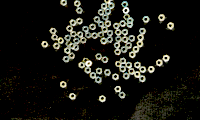nut: (168, 22, 175, 30), (163, 55, 170, 63), (158, 14, 166, 21), (129, 51, 136, 59), (139, 75, 146, 83), (123, 72, 130, 80), (115, 61, 123, 68), (122, 36, 129, 44), (101, 37, 108, 45), (85, 31, 92, 39), (95, 76, 102, 84), (85, 60, 93, 67), (60, 81, 67, 89), (64, 47, 71, 55), (51, 34, 59, 41), (41, 41, 49, 48), (143, 16, 150, 23), (148, 66, 155, 73), (138, 34, 145, 41), (133, 46, 140, 53), (140, 67, 147, 74), (134, 71, 141, 78), (129, 68, 136, 75), (126, 62, 133, 69), (120, 66, 127, 73), (120, 58, 127, 65), (122, 1, 129, 8), (123, 7, 130, 14), (127, 17, 134, 24), (127, 21, 134, 28), (129, 35, 136, 42), (126, 42, 133, 49), (121, 46, 128, 53), (122, 29, 129, 36), (120, 20, 127, 27), (113, 23, 120, 30), (115, 29, 122, 36), (114, 42, 121, 49), (115, 49, 122, 56), (115, 86, 122, 93), (119, 92, 126, 99), (108, 2, 115, 9), (105, 8, 112, 15), (101, 3, 108, 10), (98, 9, 105, 16), (105, 20, 112, 27), (98, 21, 105, 28), (94, 16, 101, 23), (104, 69, 111, 76), (96, 68, 103, 75), (90, 72, 97, 79), (85, 67, 92, 74), (80, 37, 87, 44), (69, 93, 76, 100), (76, 7, 83, 14), (74, 0, 81, 7), (70, 19, 77, 26), (67, 25, 74, 32), (73, 38, 80, 45), (70, 31, 77, 38), (69, 43, 76, 50), (66, 41, 73, 48), (63, 56, 70, 63), (157, 59, 163, 67), (139, 28, 147, 34), (100, 95, 106, 103), (137, 41, 144, 47), (135, 62, 141, 69), (124, 14, 131, 20), (116, 36, 122, 43), (113, 74, 119, 81), (103, 14, 109, 21), (107, 30, 114, 36), (107, 37, 114, 43), (102, 26, 108, 33), (98, 31, 104, 38), (92, 32, 98, 39), (90, 24, 96, 31), (83, 26, 89, 33), (102, 57, 109, 63), (96, 53, 102, 60), (79, 62, 85, 69), (77, 18, 83, 25), (77, 32, 84, 38), (65, 35, 72, 41), (73, 44, 79, 51), (69, 53, 76, 59), (58, 37, 64, 44), (53, 43, 60, 49), (50, 28, 57, 34), (83, 58, 89, 64), (61, 1, 68, 6), (105, 0, 111, 4)
